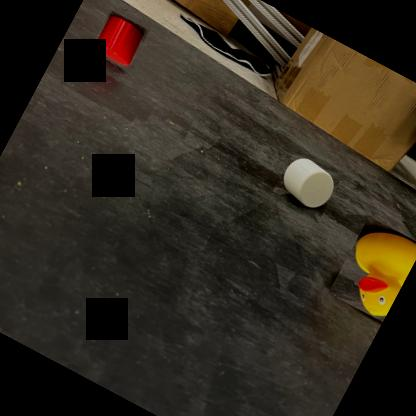duck: (328, 216, 416, 322)
red cylinder: (89, 10, 149, 71)
white cylinder: (272, 150, 342, 217)
